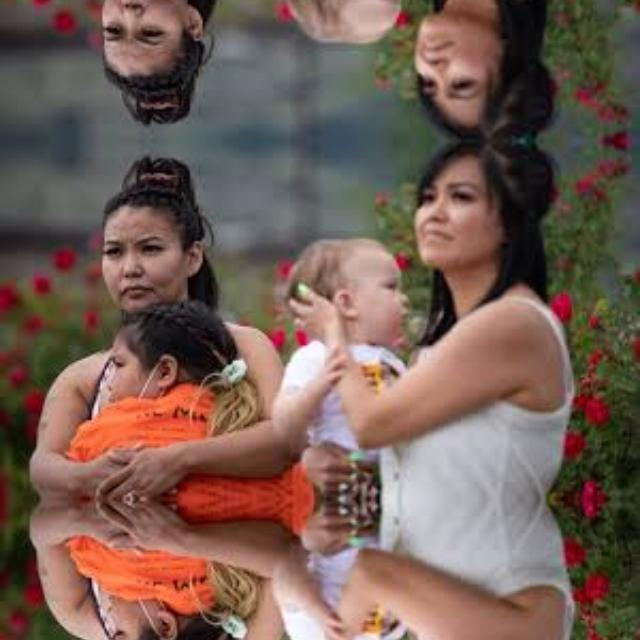person: (398, 140, 582, 494), (294, 222, 411, 462), (398, 0, 581, 140), (398, 503, 581, 640), (60, 162, 212, 318), (60, 0, 211, 117), (293, 534, 410, 640), (293, 0, 410, 58)
